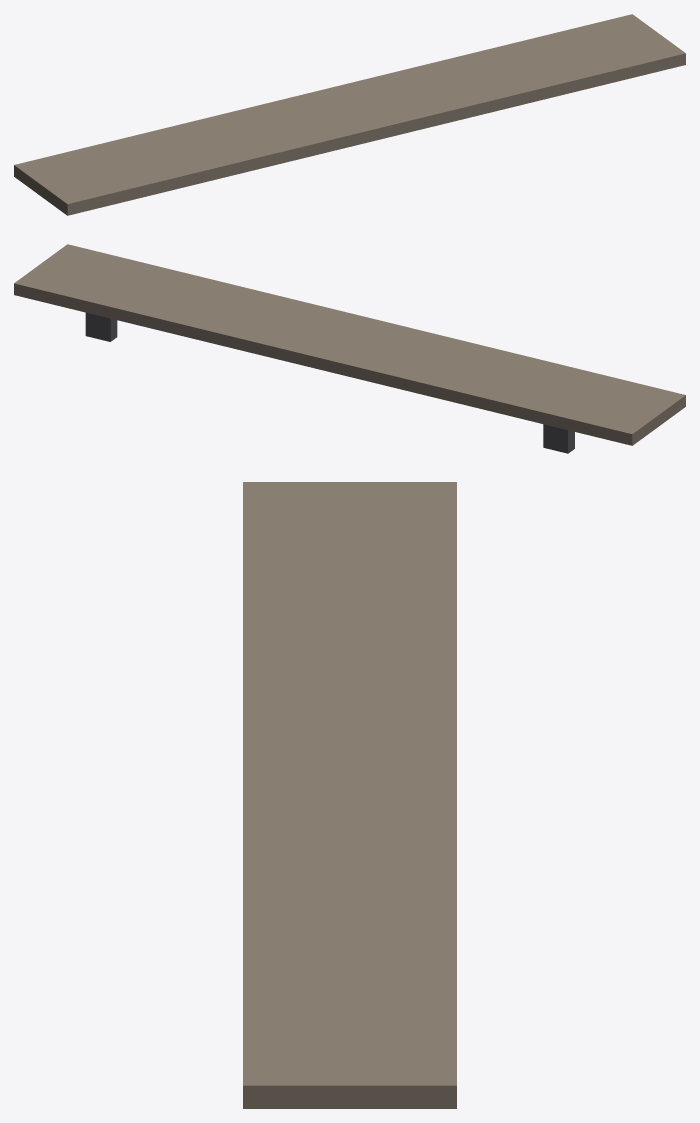
File: shelf.glb
The picture shows the model from 3 angles, top to bottom: view 1: azimuth 30°, elevation 25°; view 2: azimuth 150°, elevation 25°; view 3: azimuth 270°, elevation 25°; orthographic projection. The views are drawn at different scales.
Visible parts, largest first — view 1: shelf; view 2: shelf; view 3: shelf.
Boxes of the visible parts, bbox=[...] form: shelf: bbox=[14, 14, 685, 215]; shelf: bbox=[14, 244, 685, 453]; shelf: bbox=[243, 482, 456, 1108].
Size of the model in its own units: 2 by 0.12 by 0.3.
